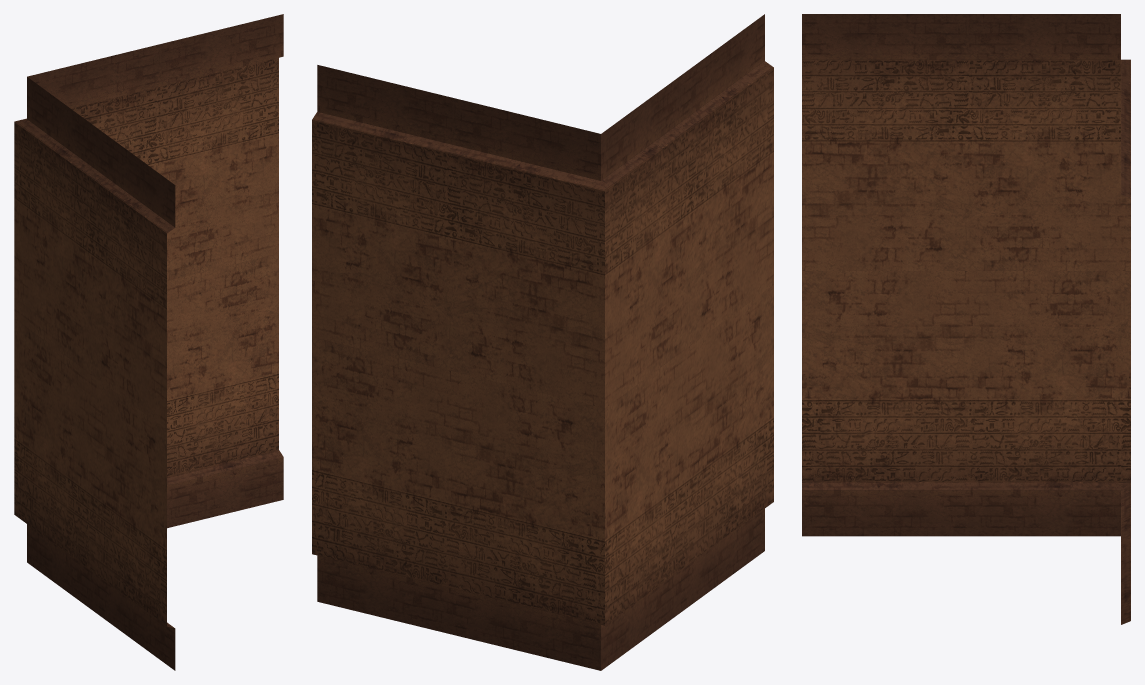
The model's file is Wall_high_Corner_1x2.FBX.
The picture shows the model from 3 angles, left to right: view 1: azimuth 30°, elevation 25°; view 2: azimuth 150°, elevation 25°; view 3: azimuth 270°, elevation 25°; orthographic projection. The views are drawn at different scales.
Parts seen in each view (by area): view 1: Wall_high_Corner_1x2; view 2: Wall_high_Corner_1x2; view 3: Wall_high_Corner_1x2.
Part boxes in pixels (x1,y1,x2,y2): Wall_high_Corner_1x2: [14, 14, 283, 670]; Wall_high_Corner_1x2: [312, 14, 773, 670]; Wall_high_Corner_1x2: [802, 14, 1130, 624].
Bounding box in the file's own units: 120 × 210 × 120.
